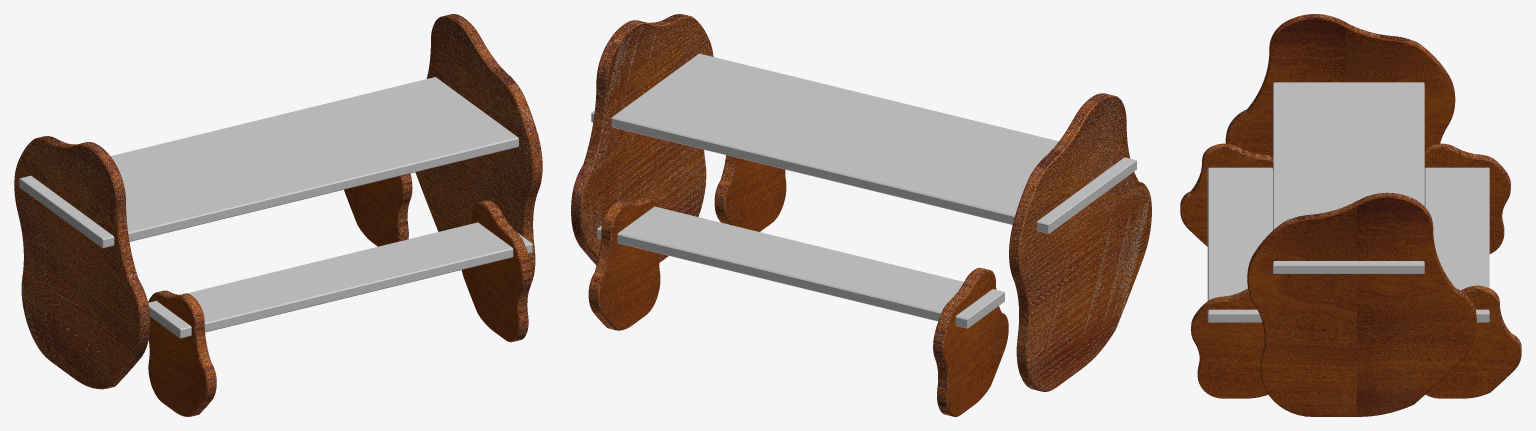
3 views of the same model, side by side, from view 1: azimuth 30°, elevation 25°; view 2: azimuth 150°, elevation 25°; view 3: azimuth 270°, elevation 25° (orthographic). The views are drawn at different scales.
Parts seen in each view (by area): view 1: mesh3_mesh3-geometry, mesh2_mesh2-geometry, mesh1_mesh1-geometry, mesh5_mesh5-geometry, mesh4_mesh4-geometry, mesh6_mesh6-geometry; view 2: mesh3_mesh3-geometry, mesh2_mesh2-geometry, mesh1_mesh1-geometry, mesh5_mesh5-geometry, mesh4_mesh4-geometry, mesh6_mesh6-geometry; view 3: mesh1_mesh1-geometry, mesh3_mesh3-geometry, mesh5_mesh5-geometry, mesh2_mesh2-geometry, mesh4_mesh4-geometry, mesh6_mesh6-geometry.
Part boxes in pixels (box(x1,y1,x2,y2)): mesh3_mesh3-geometry: box(19, 77, 538, 248); mesh2_mesh2-geometry: box(14, 136, 150, 389); mesh1_mesh1-geometry: box(415, 14, 542, 281); mesh5_mesh5-geometry: box(148, 222, 532, 338); mesh4_mesh4-geometry: box(344, 173, 532, 342); mesh6_mesh6-geometry: box(148, 290, 216, 416); mesh3_mesh3-geometry: box(591, 53, 1136, 233); mesh2_mesh2-geometry: box(1009, 93, 1151, 391); mesh1_mesh1-geometry: box(571, 14, 713, 265); mesh5_mesh5-geometry: box(597, 206, 1004, 328); mesh4_mesh4-geometry: box(588, 155, 786, 330); mesh6_mesh6-geometry: box(933, 267, 1008, 416); mesh1_mesh1-geometry: box(1247, 192, 1476, 416); mesh3_mesh3-geometry: box(1273, 82, 1424, 273); mesh5_mesh5-geometry: box(1207, 167, 1489, 322); mesh2_mesh2-geometry: box(1225, 14, 1455, 156); mesh4_mesh4-geometry: box(1191, 285, 1521, 398); mesh6_mesh6-geometry: box(1180, 143, 1510, 253).
Size of the model in its own units: 0.7358 by 0.393 by 0.5515.
